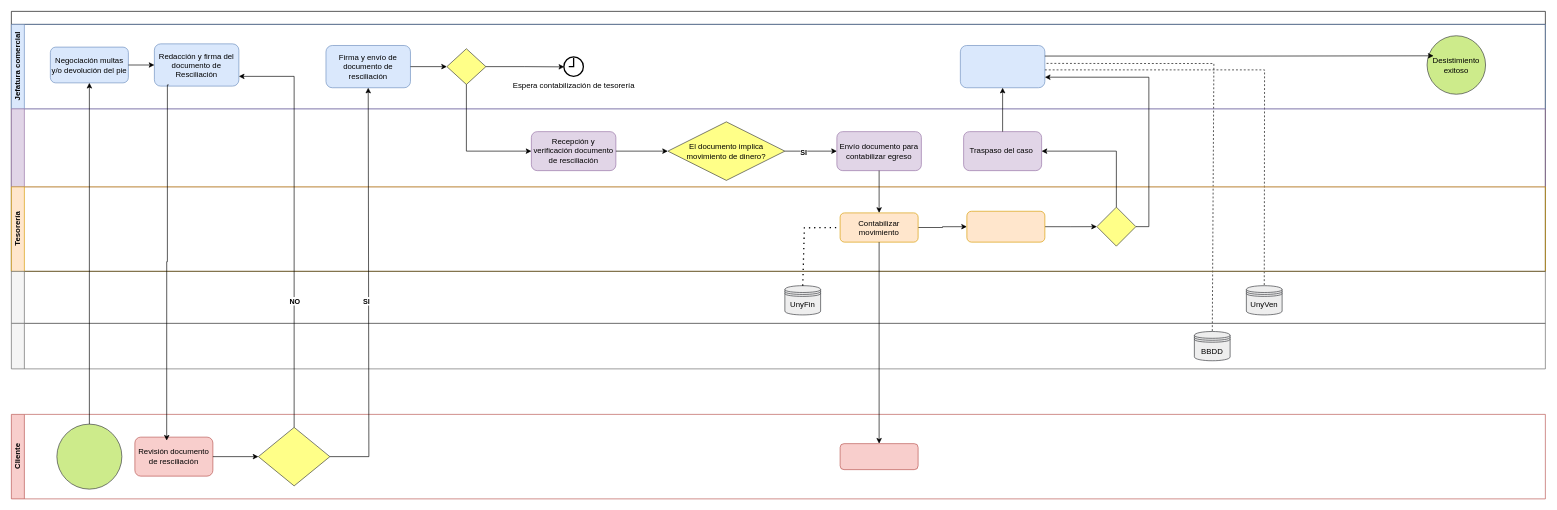
The diagram is 1557 pixels wide and 510 high, and some of its shapes have lost their labels. The shapes that lost their labels are listed below. From the top down, each one's box as (x1, y1, x2, y2) in pixels, then its label:
(960, 45, 1045, 88): Liberar unidad
(11, 11, 1545, 271): Proceso de resciliación y desistimiento
(11, 108, 1545, 187): Escrituración
(966, 211, 1045, 242): Avisar contabilización realizada
(11, 271, 1545, 323): Unysoft
(11, 323, 1545, 369): PlanOK
(56, 423, 122, 489): Informa que no continuará el proceso de compra
(258, 427, 330, 486): Cliente firma documento?
(839, 443, 918, 470): Recepción pago negociado
